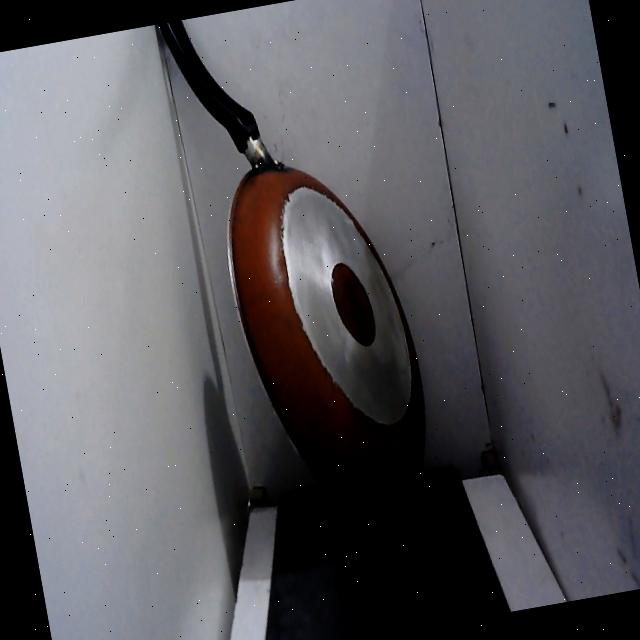metal: (204, 130, 456, 553)
